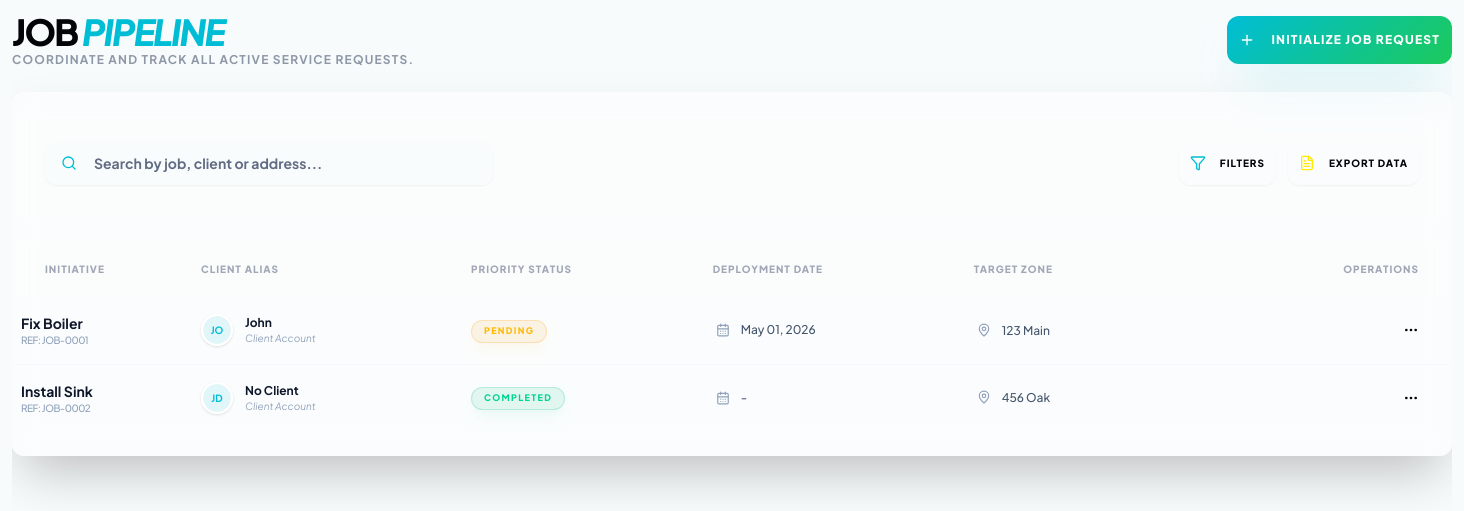
Test case: JobsPage › filters jobs by search
This screenshot has width=1464, height=511.
Expected: the text "Fix Boiler" is shown, [21,314,83,332]
In the field with placeholder "Search by job, client or address...": point(269, 163) [45,141,493,185], type "Install"
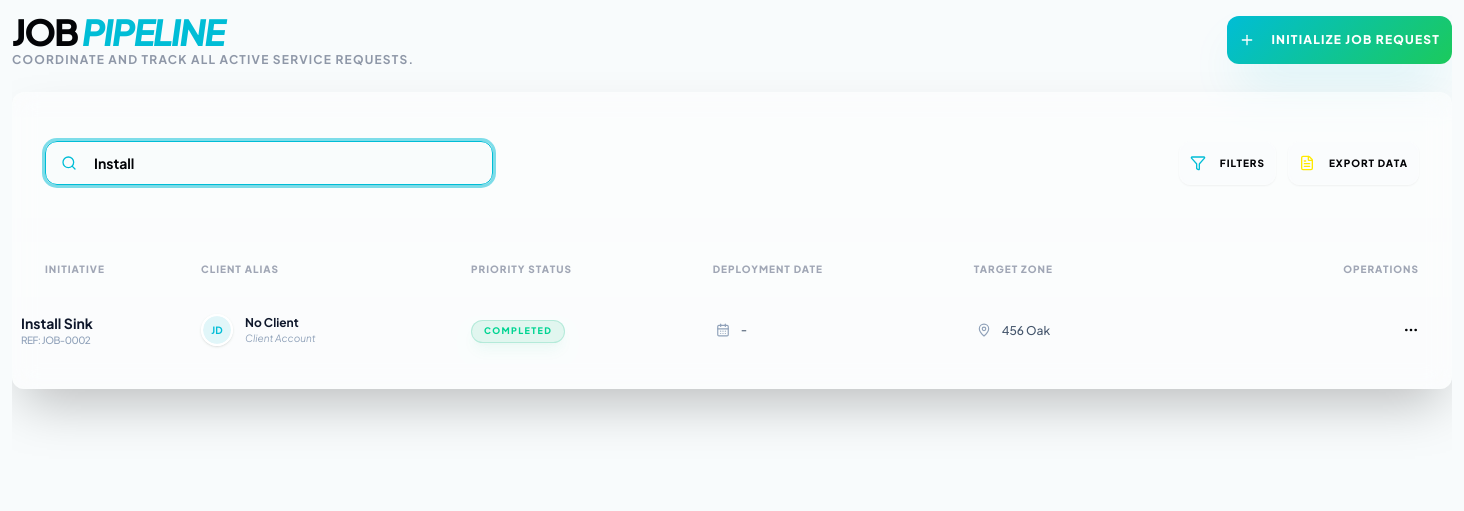
Expected: the text "Install Sink" is shown, [21,314,93,332]
Expected: the text "Fix Boiler" is gone
